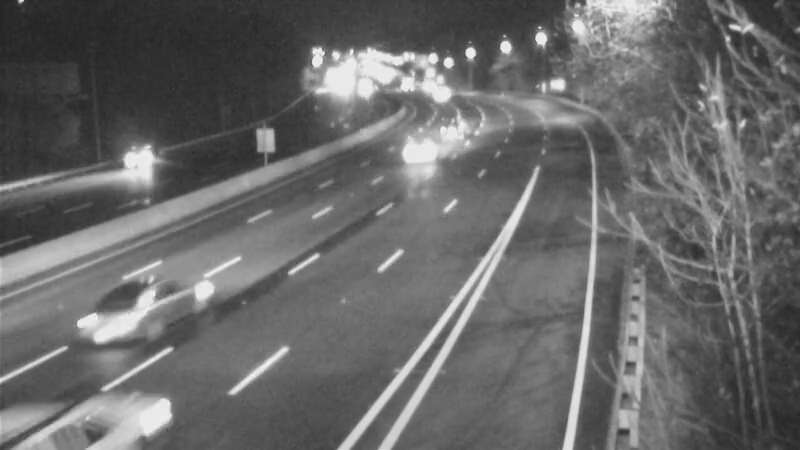vehicle: (53, 269, 163, 379), (10, 356, 120, 450), (138, 118, 218, 198), (381, 58, 431, 108), (414, 70, 464, 120), (426, 101, 476, 151), (406, 122, 456, 172)
